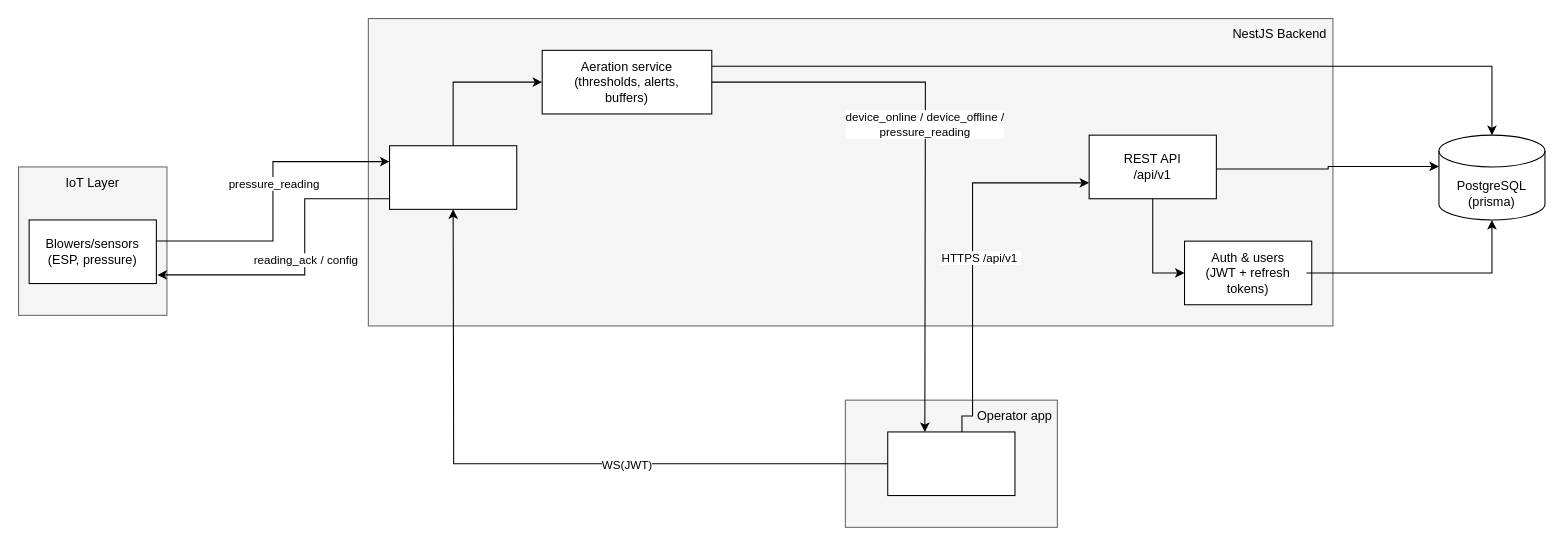
Image size: 1563x546. Some labels were removed from this diagram. Here are the shapes that lost their labels. From the top down, the centre of each, then its label:
pixel 452 177: Websocket Gateway
pixel 951 463: Mobile client
